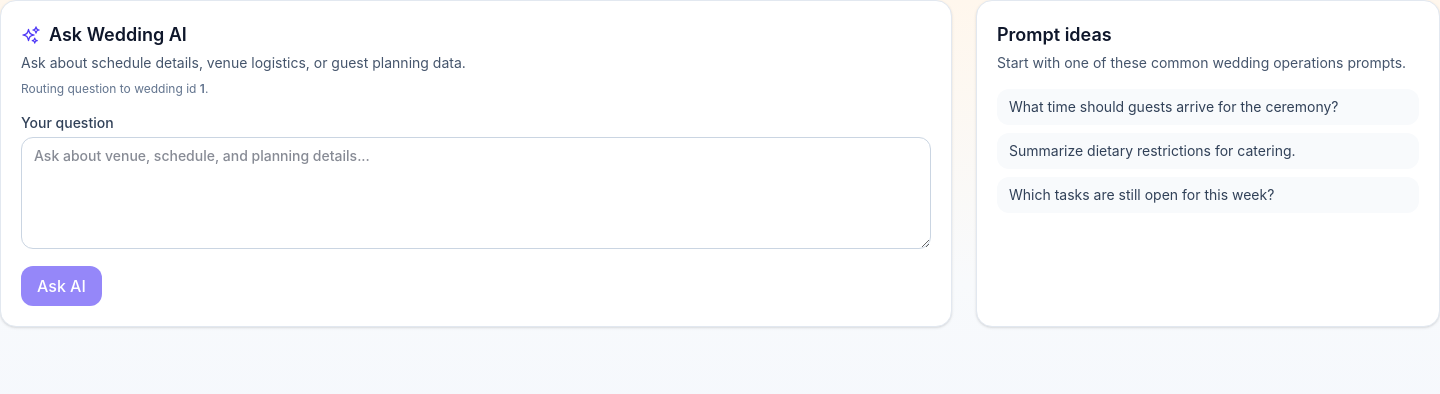
Test: AIQnAPage › shows error when ask fails
Type "Hi" into the text box with placeholder "Ask about venue, schedule, and planning details...". click: (476, 193)
box: [21,137,931,249]
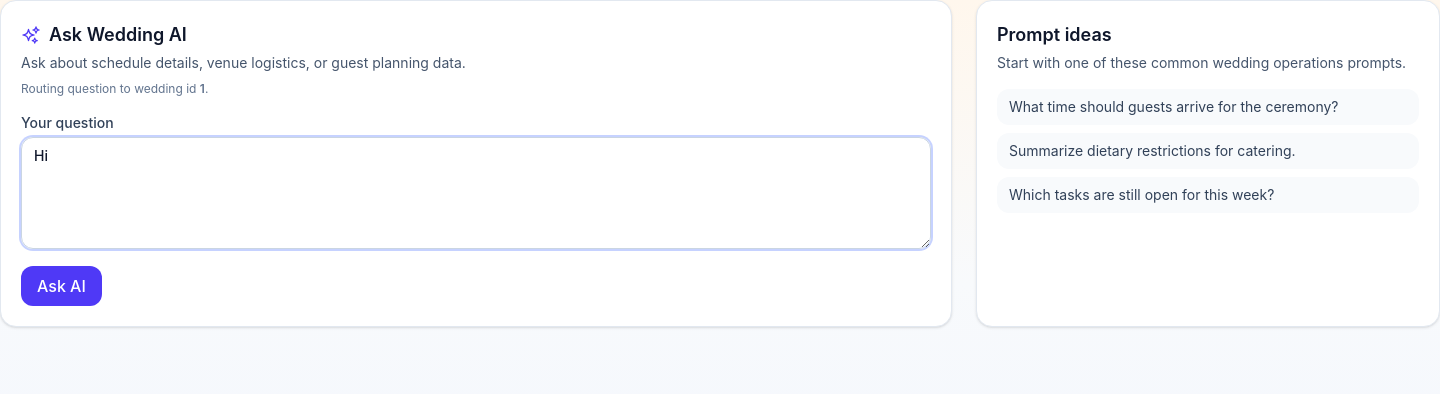
Click the button "Ask AI". click: (61, 286)
box: [21,266,102,306]
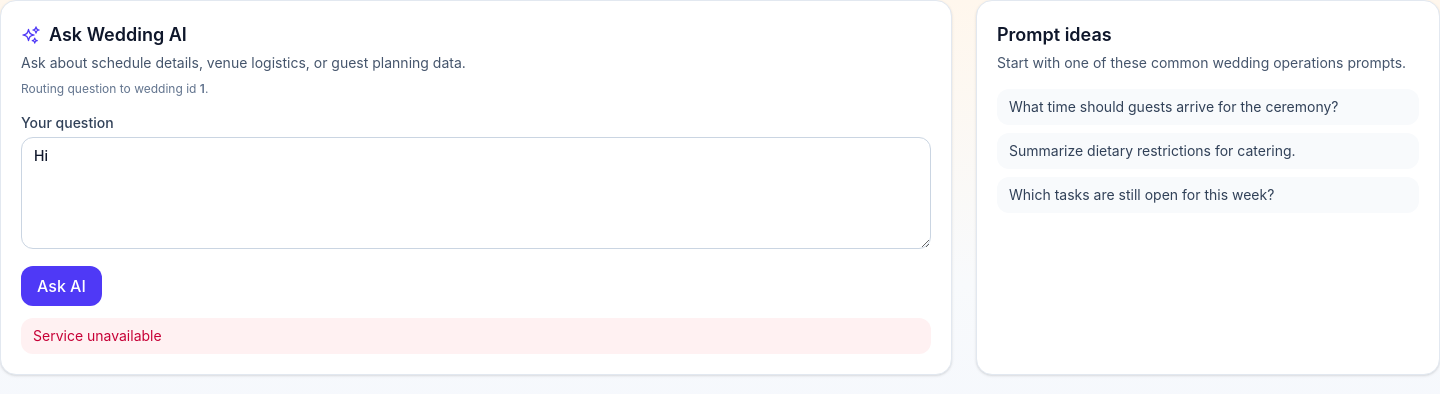
Expected: the text "Service unavailable" is shown, [21,318,931,354]
